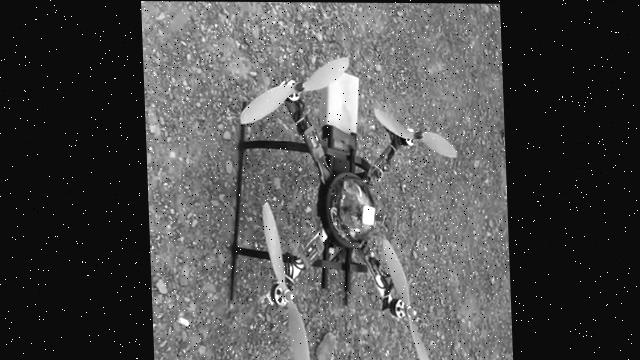drone: (215, 55, 463, 360)
